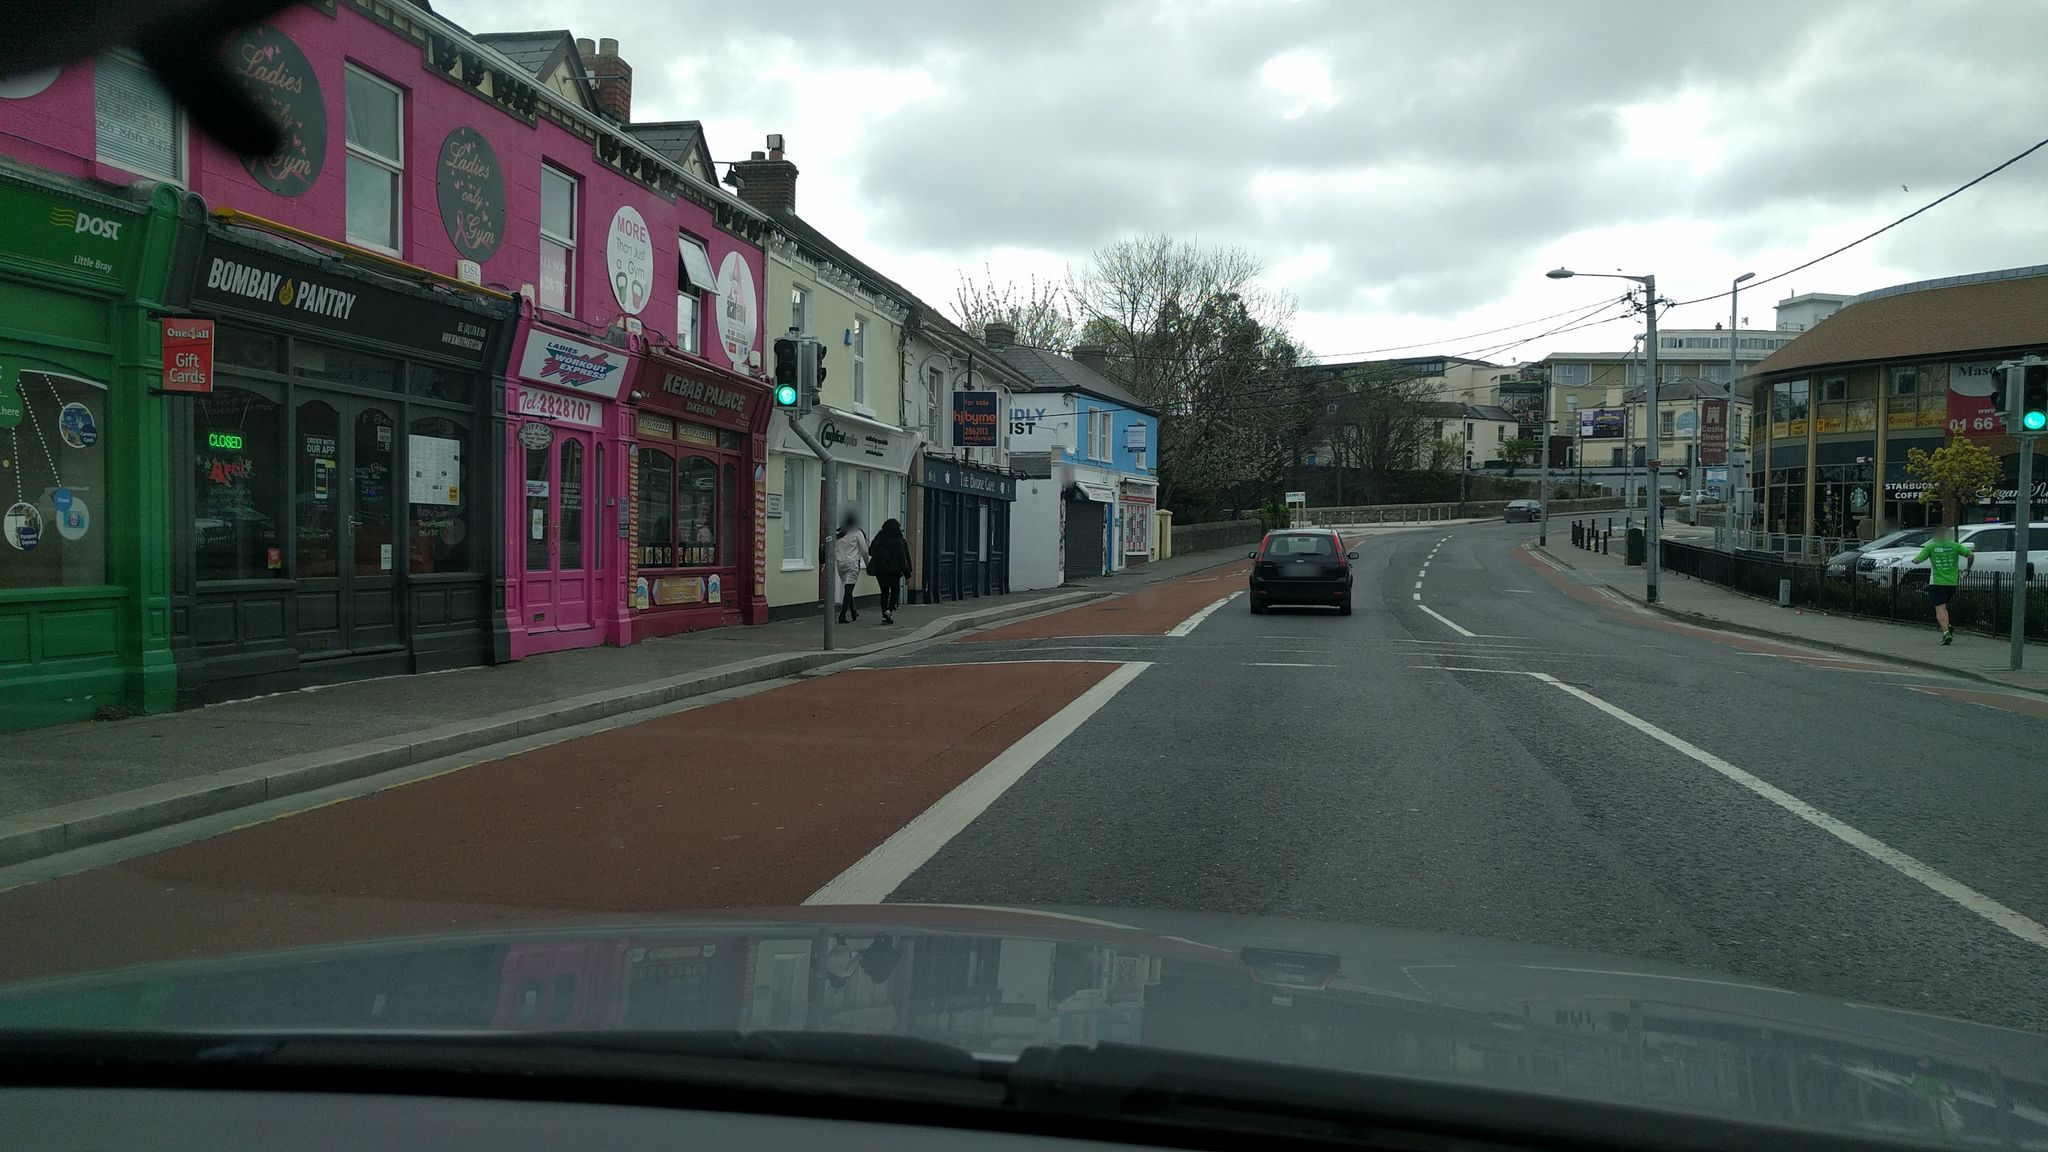property sign: (941, 370, 1023, 475)
